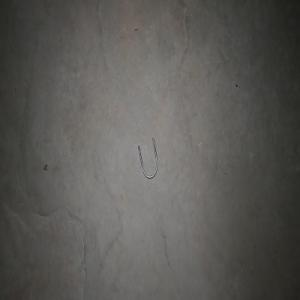ClampPart: (137, 136, 158, 179)
